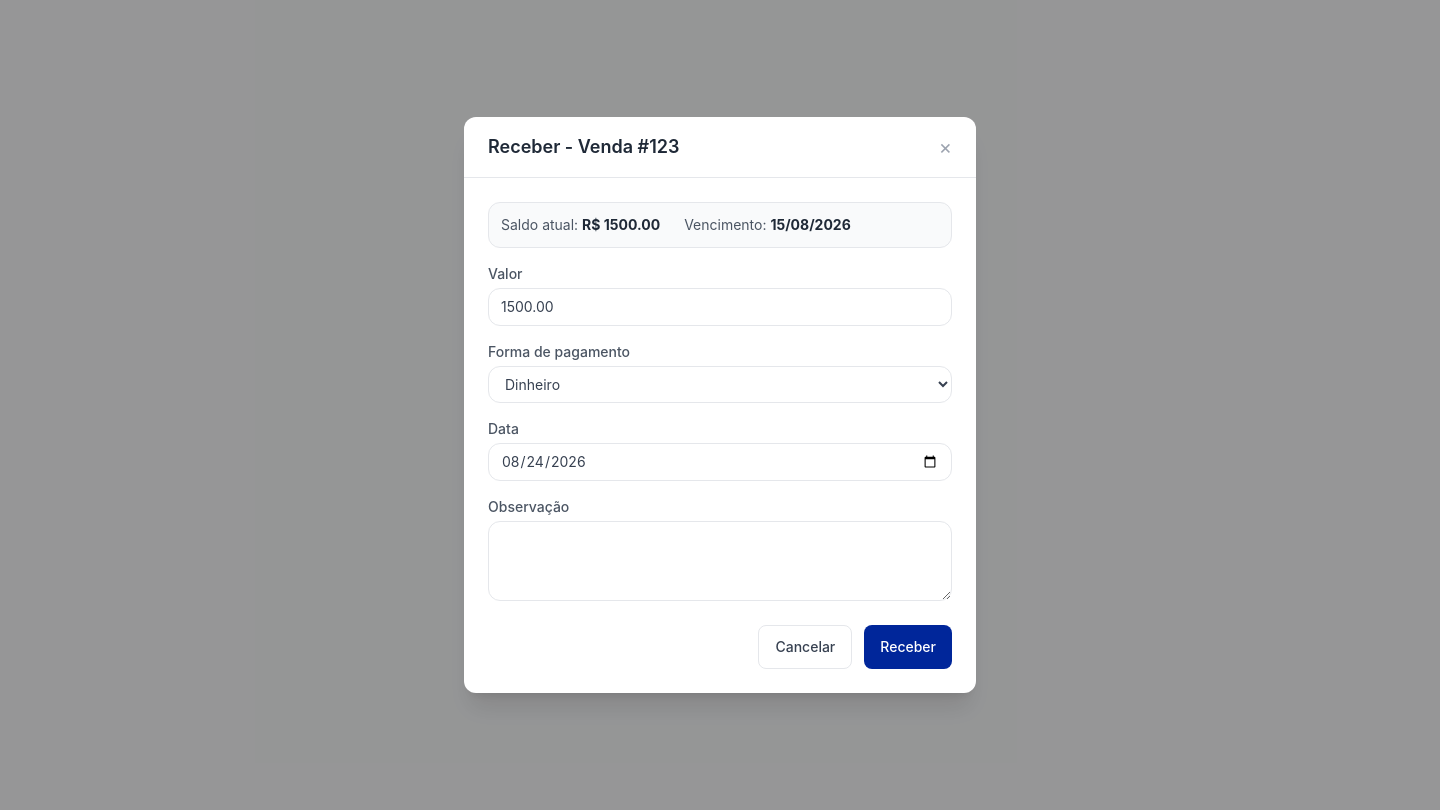
SettlementDialog › shows 422 validation error
The image size is (1440, 810).
Step 1. Click the button with test id "settlement-submit" → [908, 647], box [864,625,952,669]
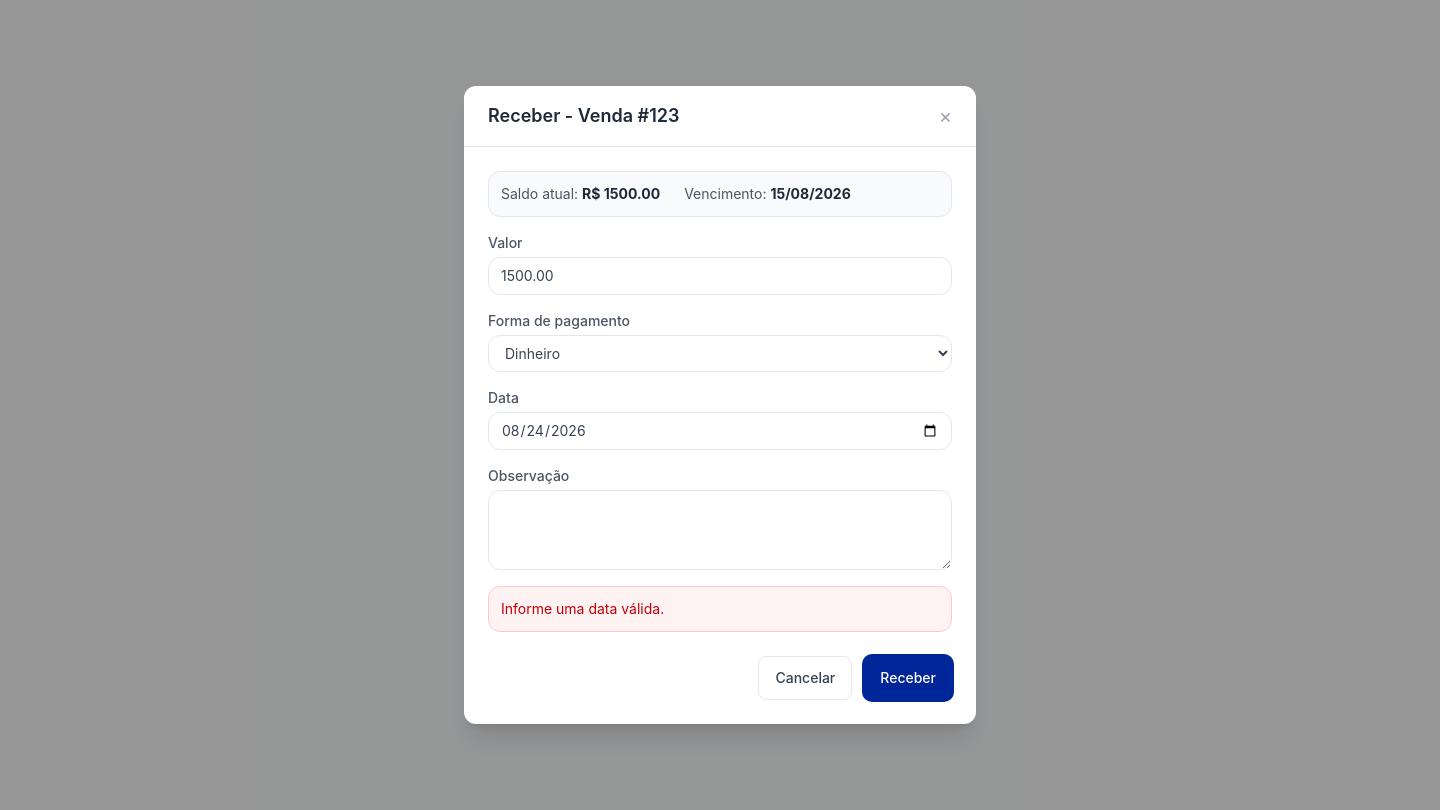
Expected: the text with test id "settlement-error" shows "data", [501,600,664,617]
